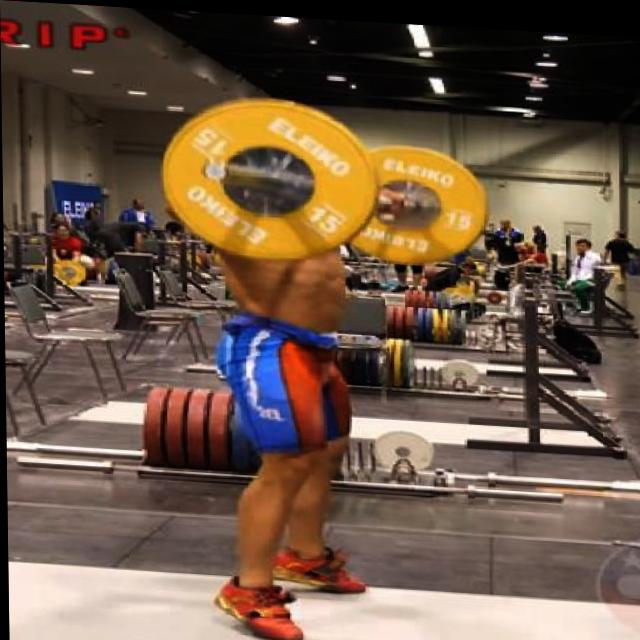barbell: (144, 85, 385, 273)
